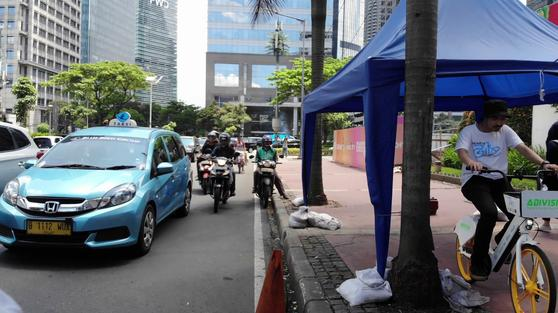bike: (444, 156, 556, 313)
